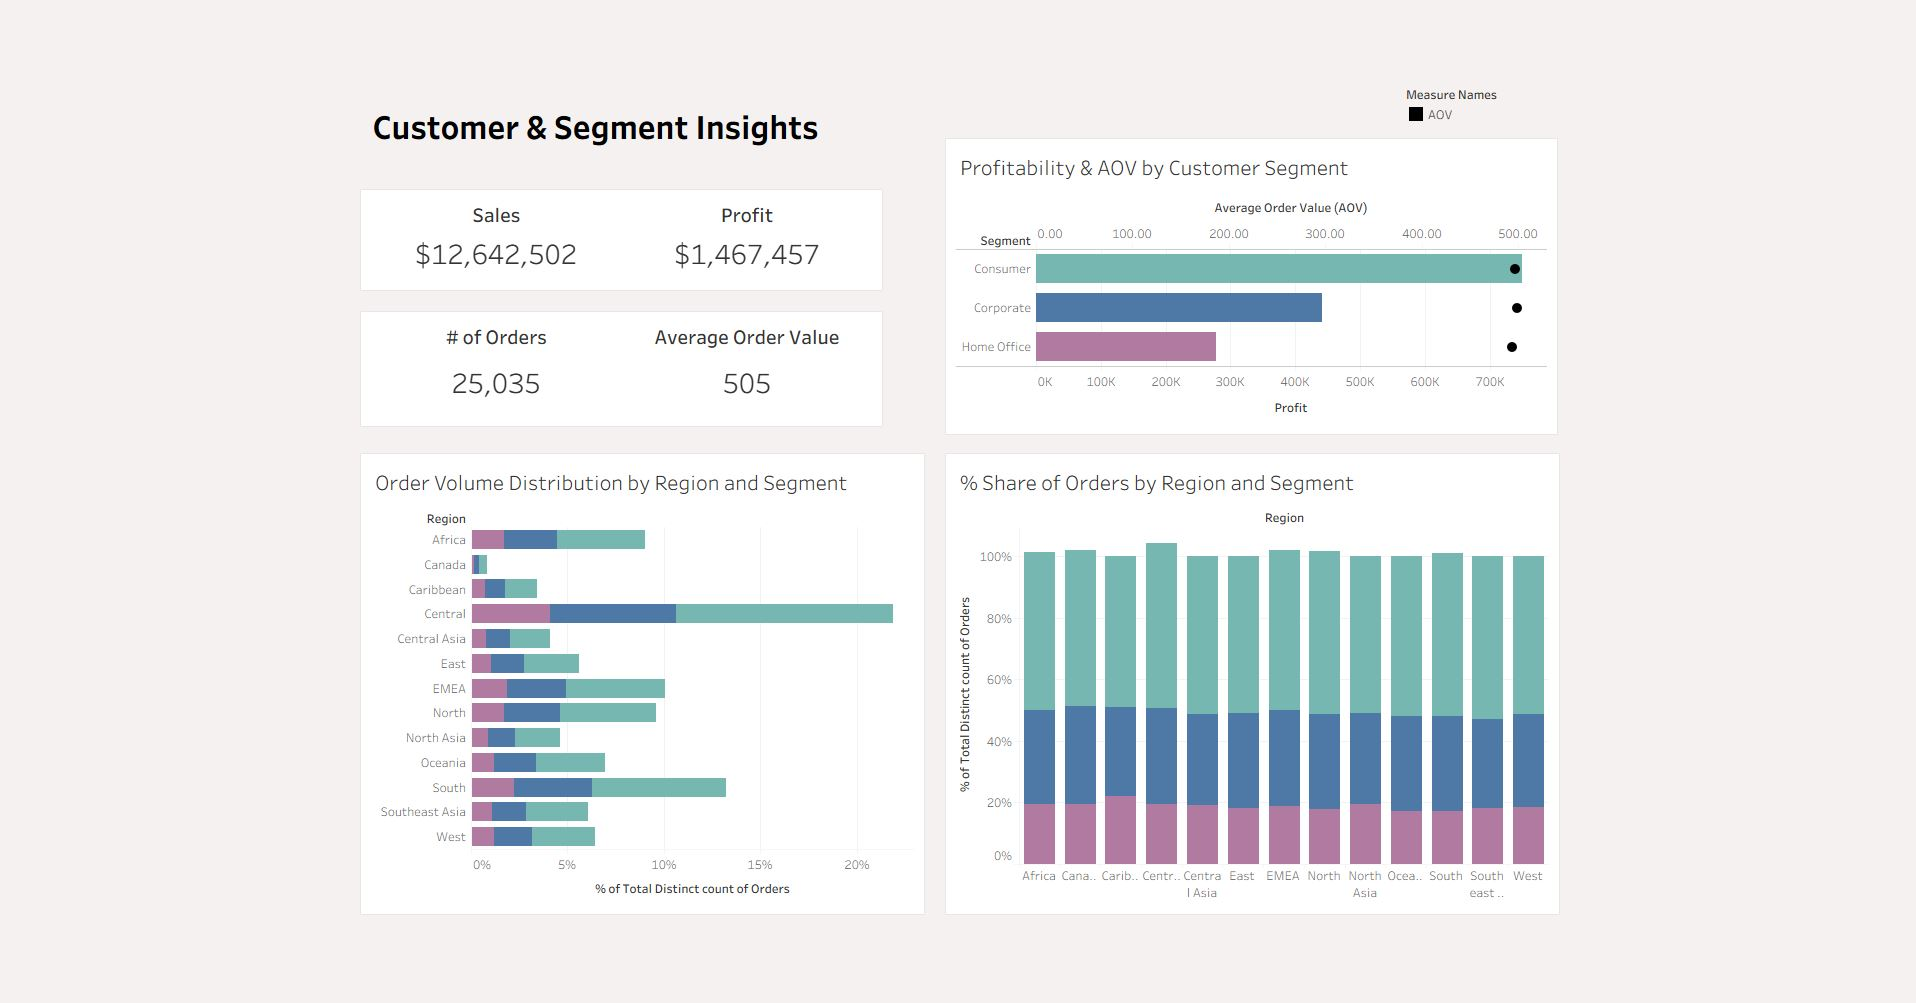

The dashboard page shown, as its layout file describes it:
{"tool":"tableau","page":{"name":"Customer Insights","canvas":[1000,1000],"units":"permille","ordinal":0},"visuals":[{"type":"text","box":[0,0,445.1,131.2]},{"type":"legend","title":"Profitability & AOV by Customer Segment","param":"[federated.0g22q150zr19dk14zl6151vhu72g].[:Measure Names]","box":[861.5,10,131.9,57.5]},{"type":"worksheet","title":"Profitability & AOV by Customer Segment","mark":"Bar","rows":["Segment"],"cols":["Profit","Calculation_907193888944934938"],"box":[479.5,62.8,518.9,368.6]},{"type":"worksheet","title":"Customer KPIs","mark":"Automatic","box":[0,131.2,445.1,145.4]},{"type":"worksheet","title":"Customer KPIs (2)","mark":"Automatic","box":[0,276.7,445.1,145.4]},{"type":"worksheet","title":"Order Volume Distribution by Region and Segment","mark":"Automatic","rows":["Region"],"box":[0,429.1,482.3,560.5]},{"type":"worksheet","title":"% Share of Orders by Region and Segment","mark":"Automatic","cols":["Region"],"box":[482.3,429.1,517.6,560.5]}]}

Visuals, with their boxes on the dashboard's canvas, which has no fixed pixel size, in thousandths of its width and height (x1, y1, x2, y2). These are canvas units, not pixel positions in the 1916x1003 screenshot, which may show the page scaled, cropped or inside an application window:
text: 0,0,445,131
"Profitability & AOV by Customer Segment" legend: 862,10,993,68
"Profitability & AOV by Customer Segment" worksheet (Bar marks): 480,63,998,431
"Customer KPIs" worksheet: 0,131,445,277
"Customer KPIs (2)" worksheet: 0,277,445,422
"Order Volume Distribution by Region and Segment" worksheet: 0,429,482,990
"% Share of Orders by Region and Segment" worksheet: 482,429,1000,990
